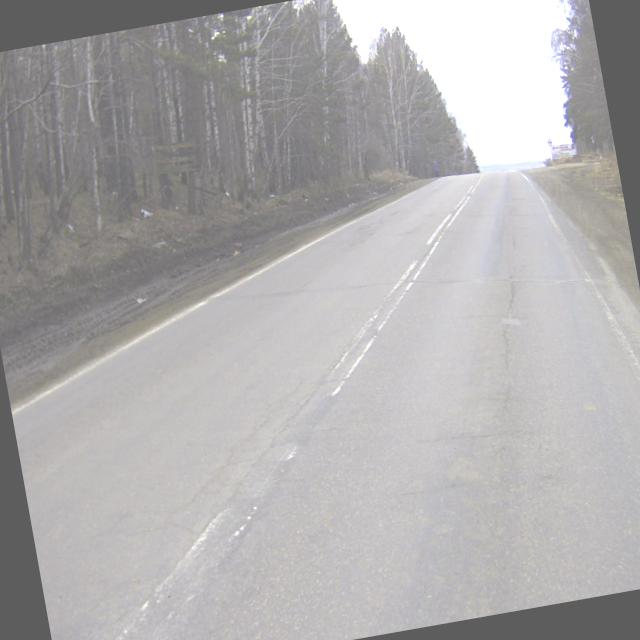road: (12, 168, 640, 640)
